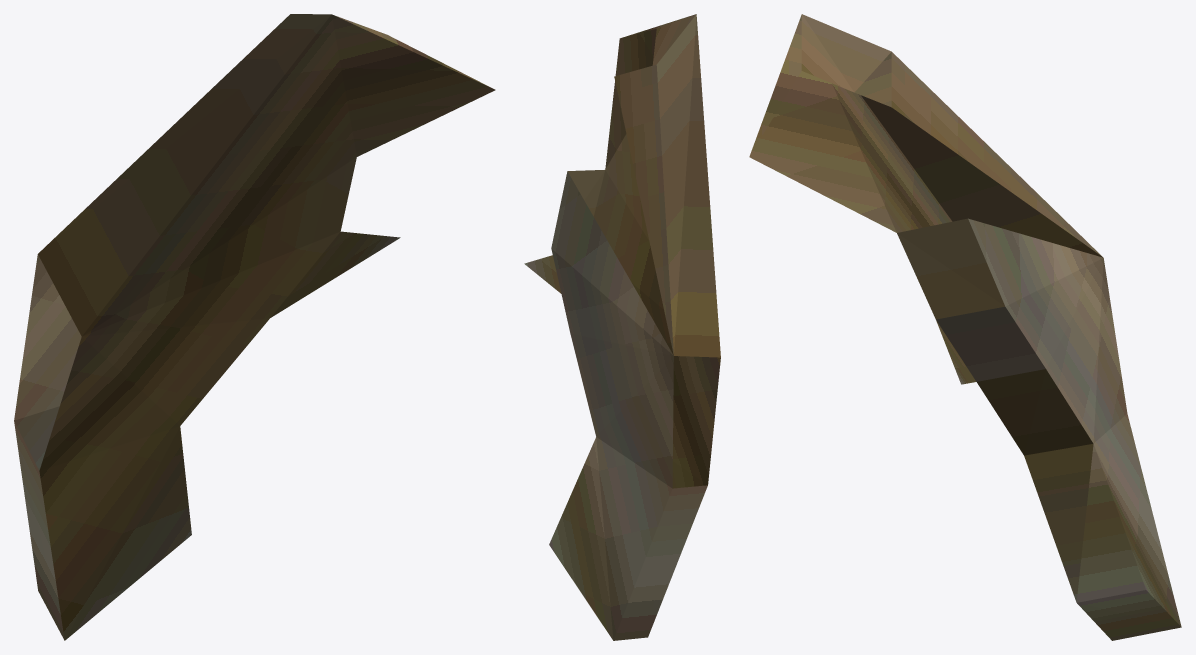
Rendered from gibbit.glb.
3 renders of one model, left to right at view 1: azimuth 30°, elevation 25°; view 2: azimuth 150°, elevation 25°; view 3: azimuth 270°, elevation 25°, orthographic. The views are drawn at different scales.
Parts seen in each view (by area): view 1: gibbit; view 2: gibbit; view 3: gibbit.
Part boxes in pixels (box(x1,y1,x2,y2)): gibbit: box(14, 14, 495, 640); gibbit: box(524, 14, 720, 640); gibbit: box(749, 14, 1181, 640).
Bounding box in the file's own units: 7.95 × 17.79 × 10.38.
1 material, 1 textured.
